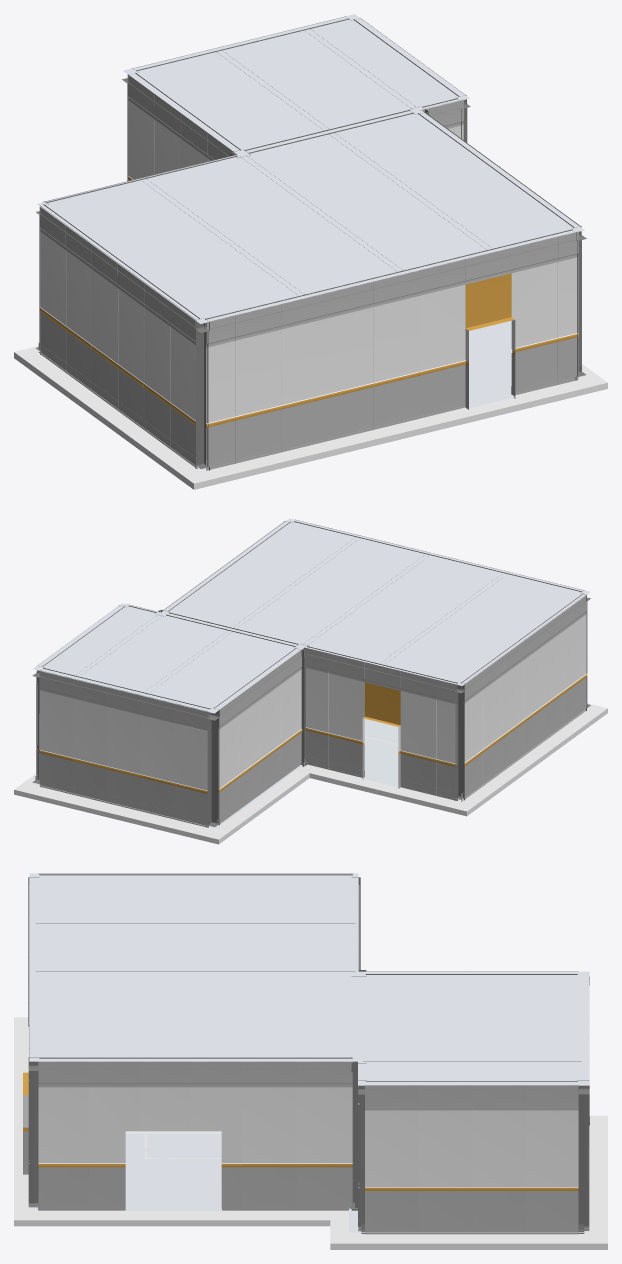
3 views of the same model, one above another, from view 1: azimuth 30°, elevation 25°; view 2: azimuth 150°, elevation 25°; view 3: azimuth 270°, elevation 25° (orthographic). The views are drawn at different scales.
Parts seen in each view (by area): view 1: SM_H_Building_FutureTech_ToolHouse_01_InterWall_01; view 2: SM_H_Building_FutureTech_ToolHouse_01_InterWall_01; view 3: SM_H_Building_FutureTech_ToolHouse_01_InterWall_01.
Part boxes in pixels (box(x1,y1,x2,y2)): SM_H_Building_FutureTech_ToolHouse_01_InterWall_01: box(14, 14, 607, 489); SM_H_Building_FutureTech_ToolHouse_01_InterWall_01: box(14, 518, 607, 844); SM_H_Building_FutureTech_ToolHouse_01_InterWall_01: box(14, 873, 607, 1249).
Size of the model in its own units: 640 by 577 by 188.
